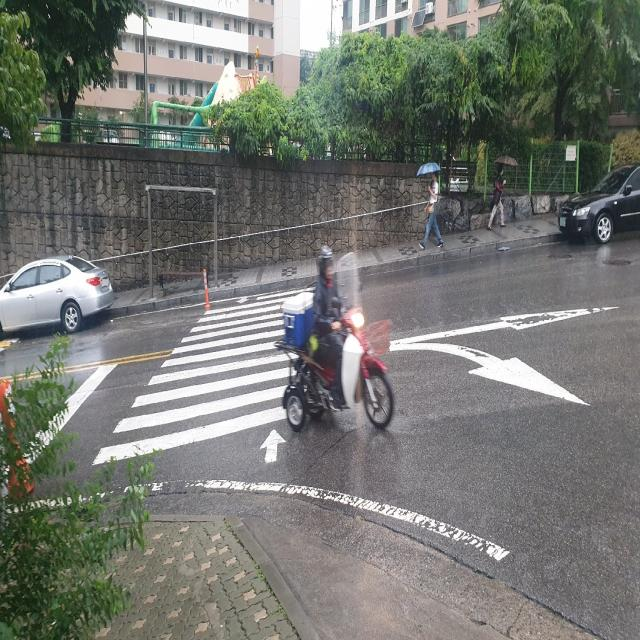횡단보도: (87, 285, 316, 471)
